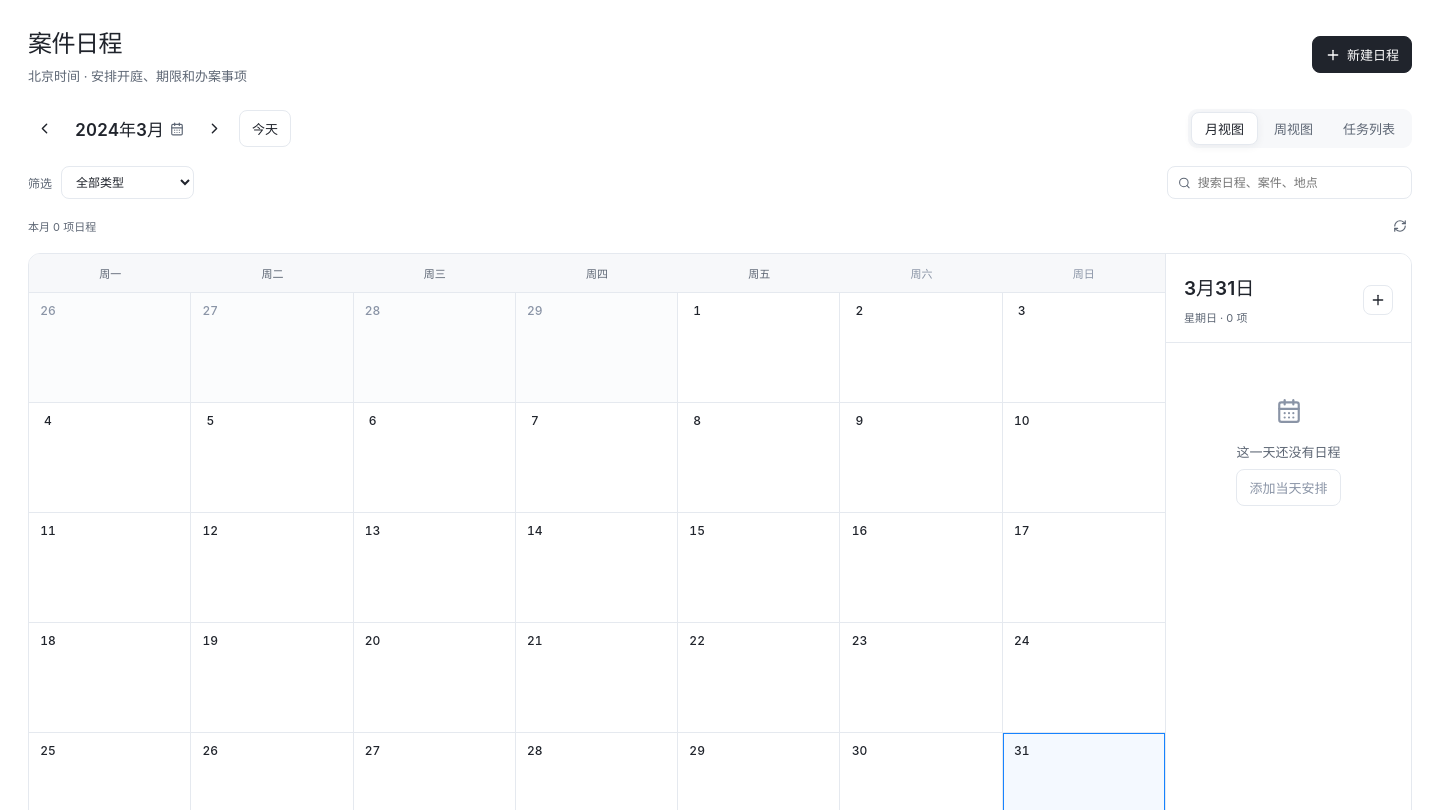
it: capacity errors remain accurate and do not turn into a deleted-event conflict
The width and height of the screenshot is (1440, 810).
Click the button "新建日程".
click(1362, 54)  # box [1312,36,1412,73]
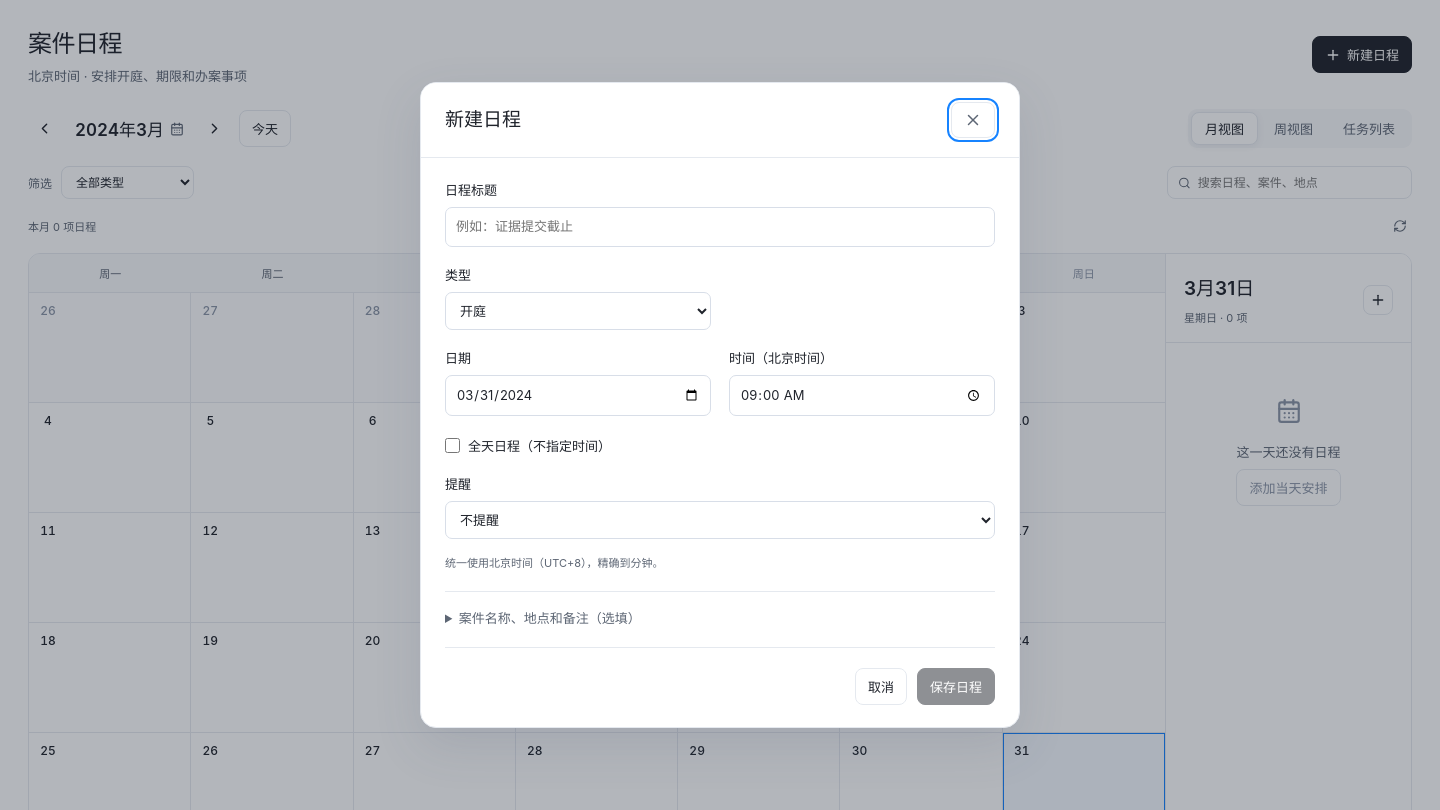
Type "虚构安排" into the field labelled "日程标题".
click(720, 227); type("虚构安排")  # box [445,207,995,247]
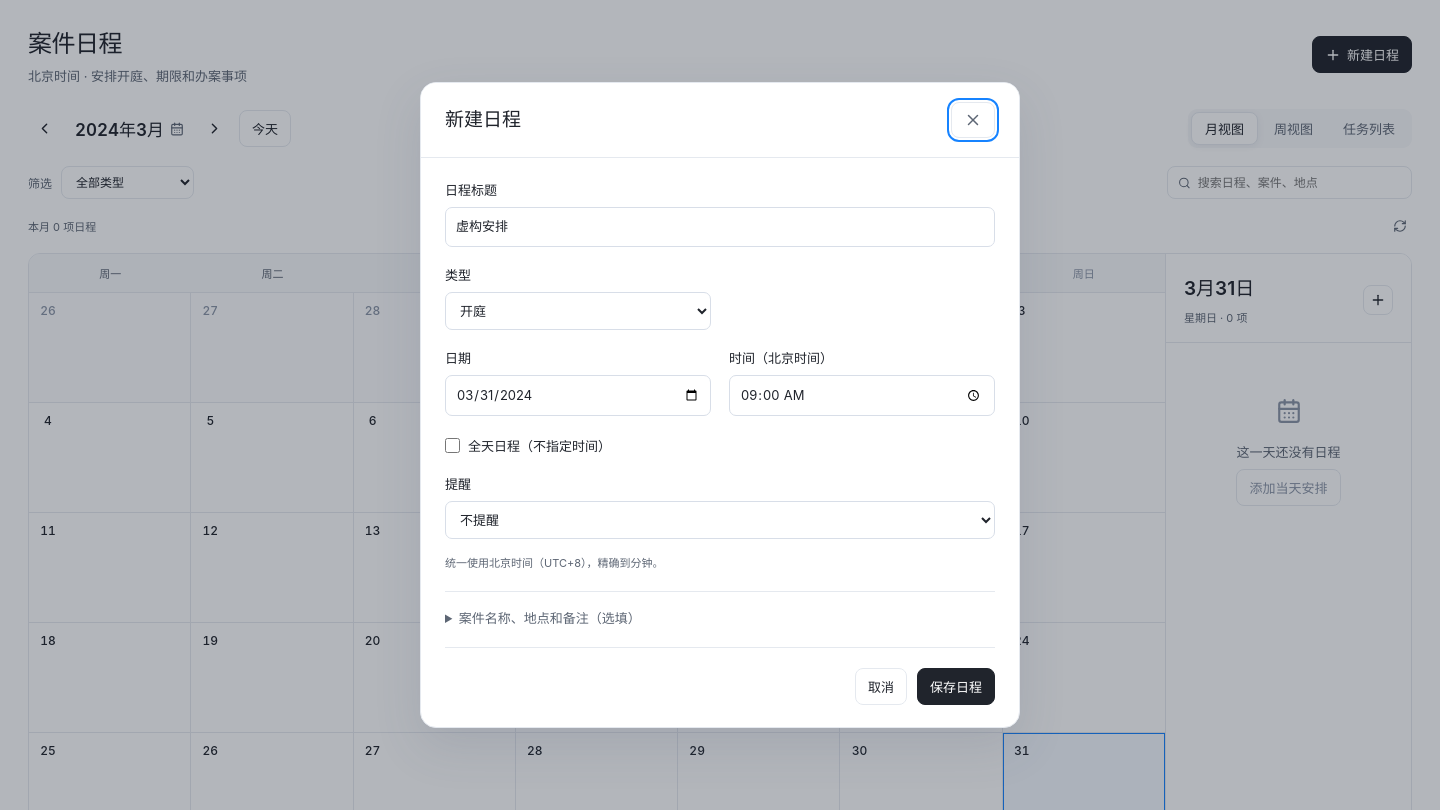
Click the button "保存日程".
click(956, 686)  # box [917,668,995,705]
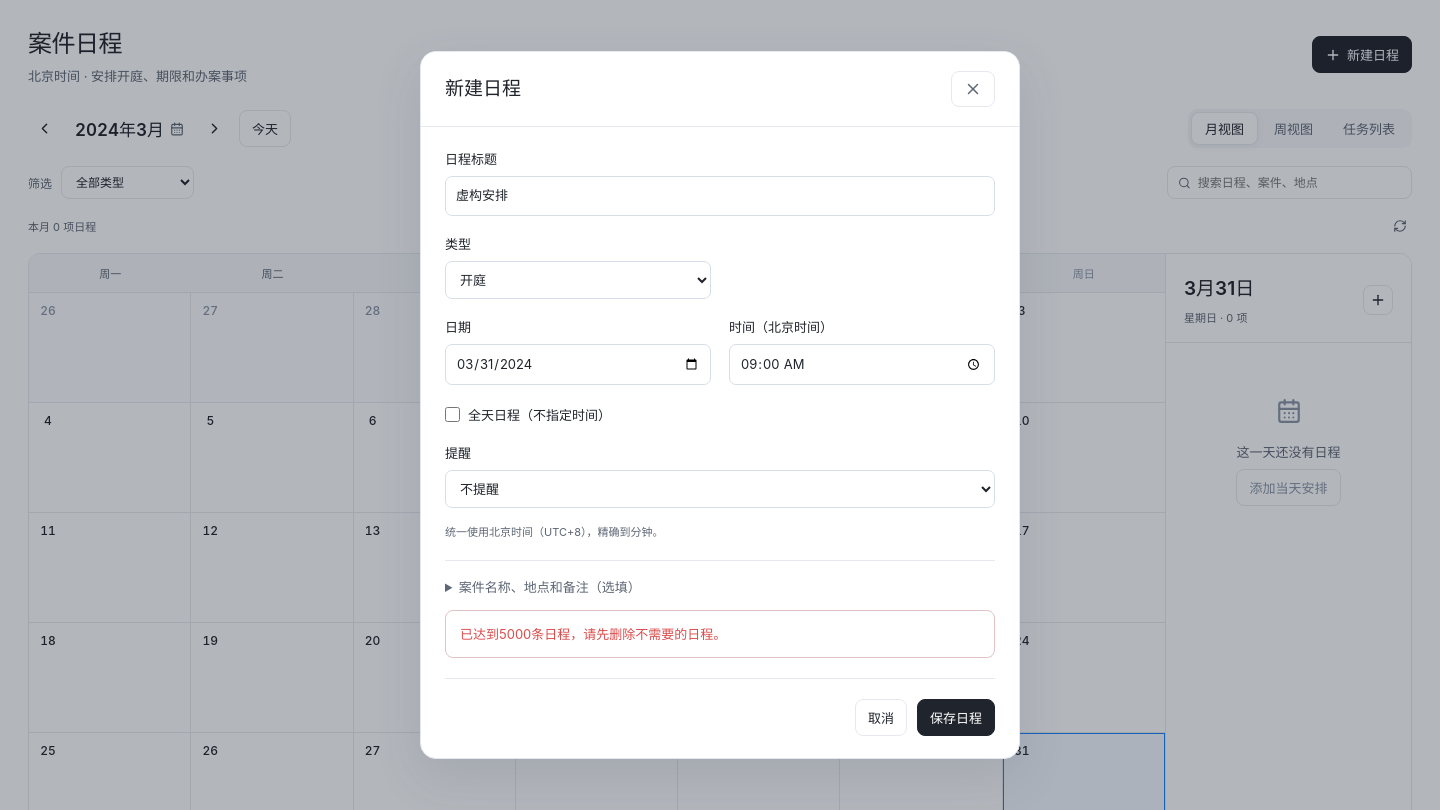
Check: the text "已达到5000条日程，请先删除不需要的日程。" is shown, box [445,610,995,658]
